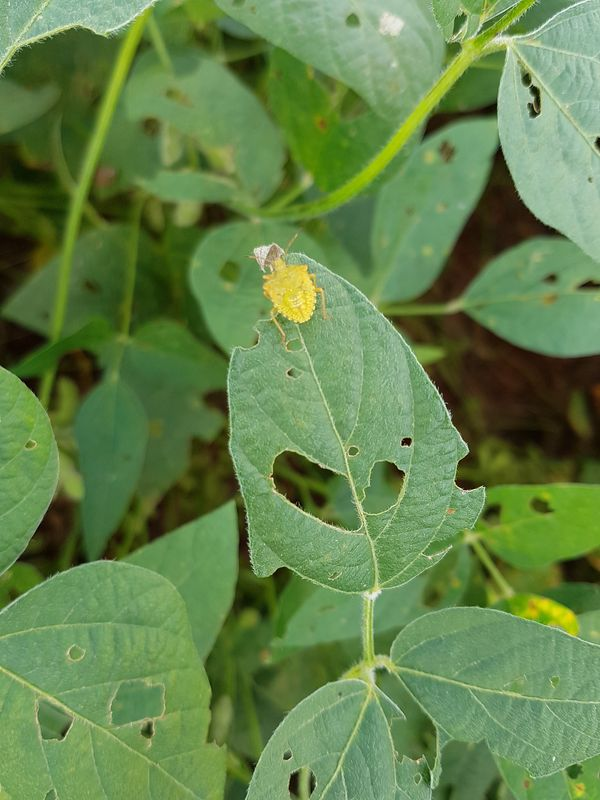Euschistus_heros_ninfa: (234, 233, 349, 355)
